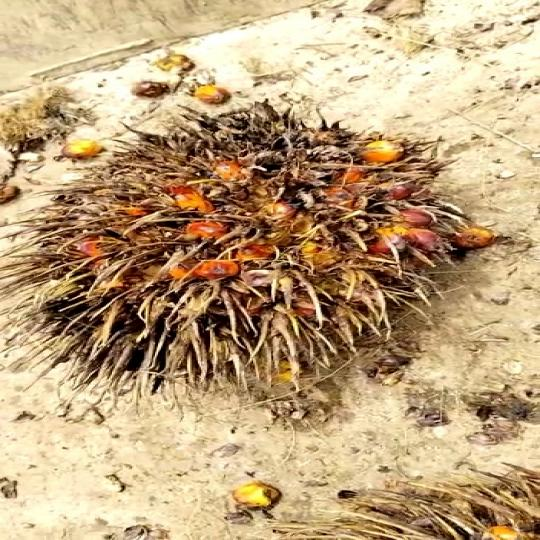terlalu masak: (32, 103, 536, 406)
